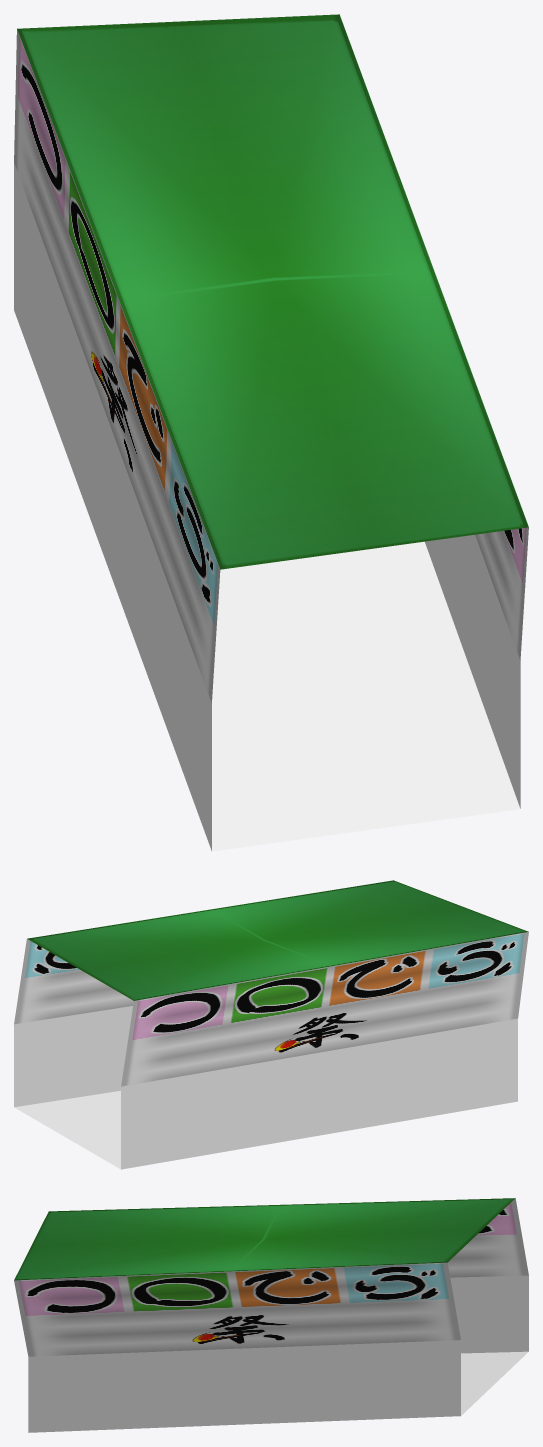
The model's file is CourseWinter_Wall_R_15_14.fbx.
The picture shows the model from 3 angles, top to bottom: view 1: azimuth 30°, elevation 25°; view 2: azimuth 150°, elevation 25°; view 3: azimuth 270°, elevation 25°; orthographic projection. The views are drawn at different scales.
Visible parts, largest first — view 1: polySurface572; view 2: polySurface572; view 3: polySurface572.
Part boxes in pixels (<box>): polySurface572: <box>14,14,528,851</box>; polySurface572: <box>14,880,528,1169</box>; polySurface572: <box>14,1198,528,1432</box>.
Bounding box in the file's own units: 3.66 × 2.98 × 6.13.
1 material, 1 textured.
